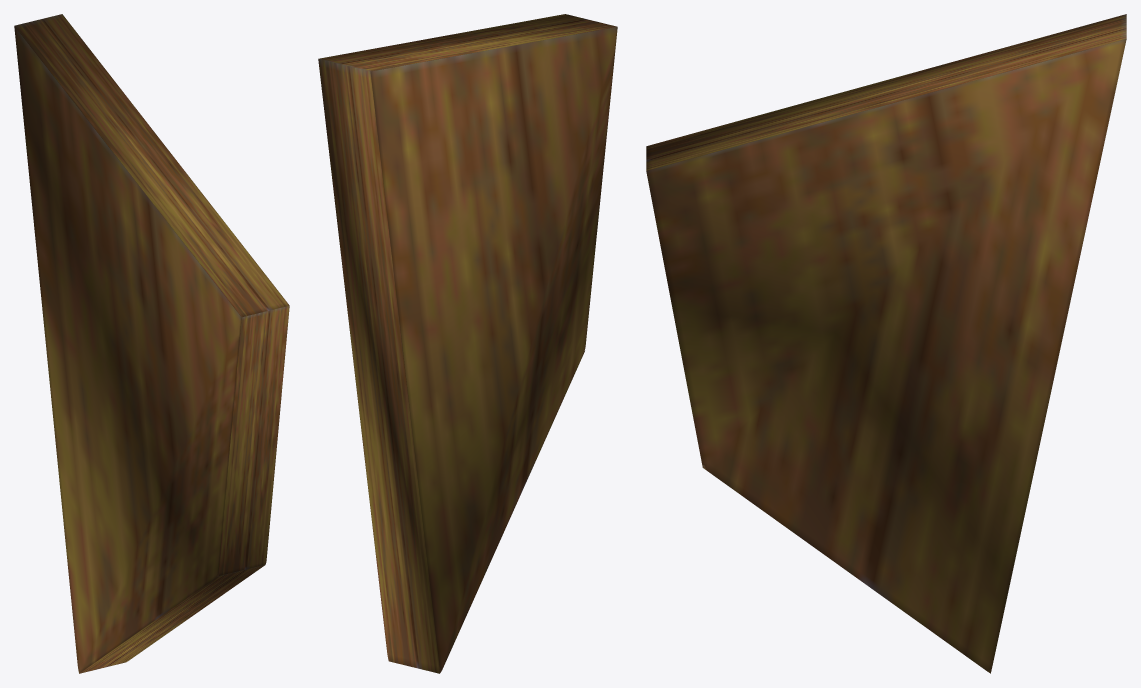
3 renders of one model, left to right at view 1: azimuth 30°, elevation 25°; view 2: azimuth 150°, elevation 25°; view 3: azimuth 270°, elevation 25°, orthographic. The views are drawn at different scales.
Visible parts, largest first — view 1: T1L2M008_34; view 2: T1L2M008_34; view 3: T1L2M008_34.
Part boxes in pixels (x1,y1,x2,y2): T1L2M008_34: (14, 14, 289, 673); T1L2M008_34: (318, 14, 617, 673); T1L2M008_34: (646, 14, 1126, 673).
Size of the model in its own units: 0.1094 by 1.22 by 0.8389.
1 material, 1 textured.
